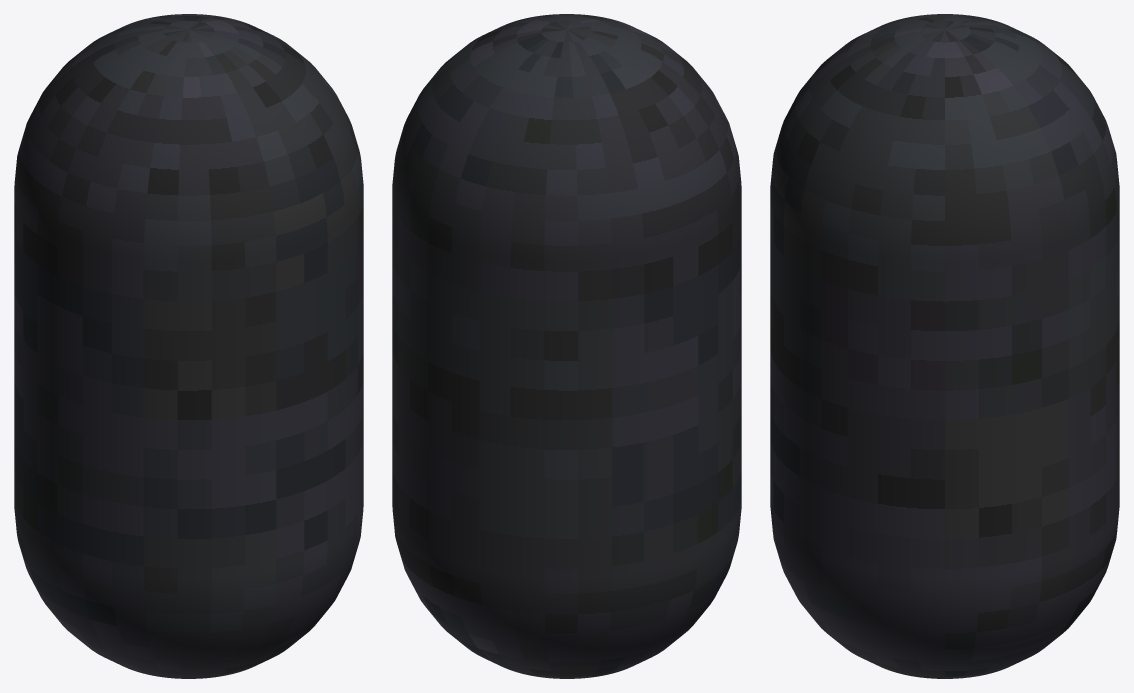
File: player.glb
The picture shows the model from 3 angles, left to right: view 1: azimuth 30°, elevation 25°; view 2: azimuth 150°, elevation 25°; view 3: azimuth 270°, elevation 25°; orthographic projection.
Parts seen in each view (by area): view 1: player-mesh; view 2: player-mesh; view 3: player-mesh.
Part boxes in pixels (box(x1,y1,x2,y2)): player-mesh: box(14, 14, 363, 678); player-mesh: box(392, 14, 741, 678); player-mesh: box(770, 14, 1119, 678).
Size of the model in its own units: 1 by 2 by 1.
1 material, 1 textured.
